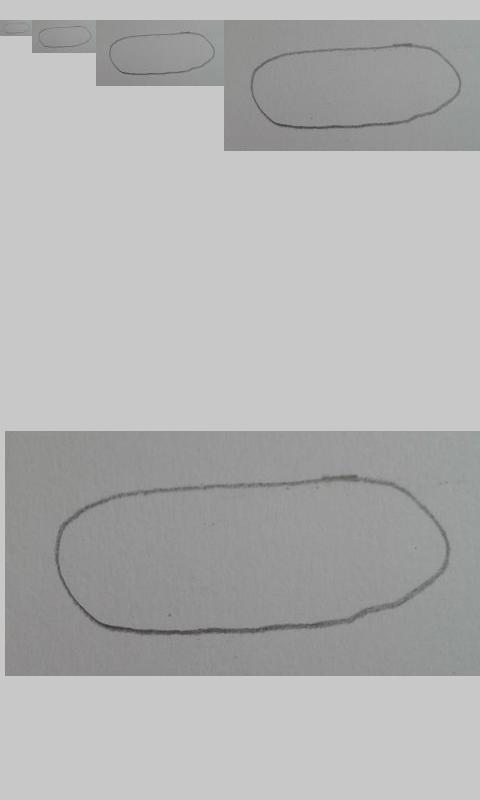chip: (55, 474, 453, 637), (249, 43, 462, 130), (109, 31, 216, 76), (38, 26, 93, 49), (2, 22, 31, 35)
